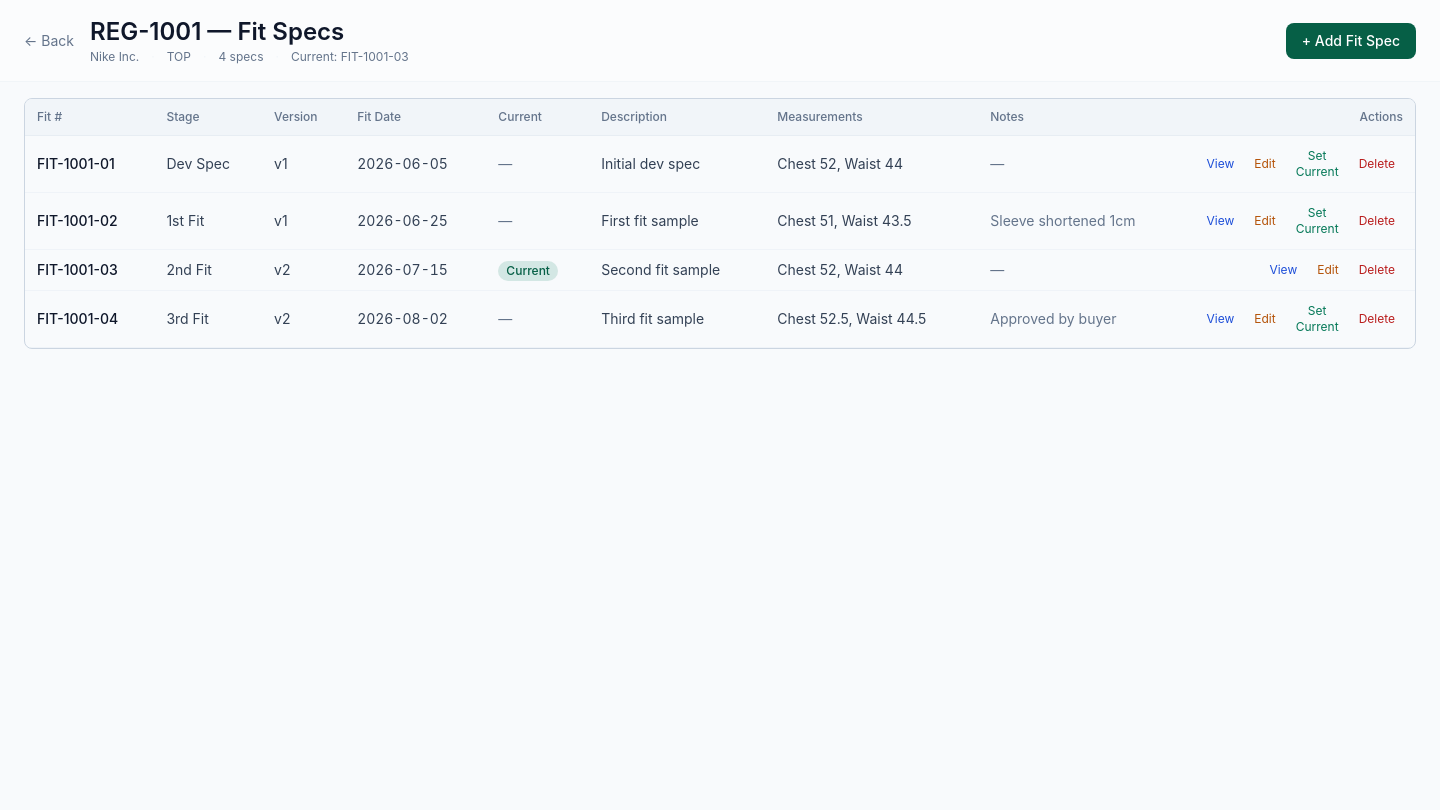
Test: DesignFitSpecsPage › edits an existing fit spec
The width and height of the screenshot is (1440, 810).
Check: the text "FIT-1001-01" is shown, box [25, 136, 154, 193]
Click the button "Edit" in the row of "FIT-1001-01".
click(1265, 164)  # box [1246, 152, 1284, 176]
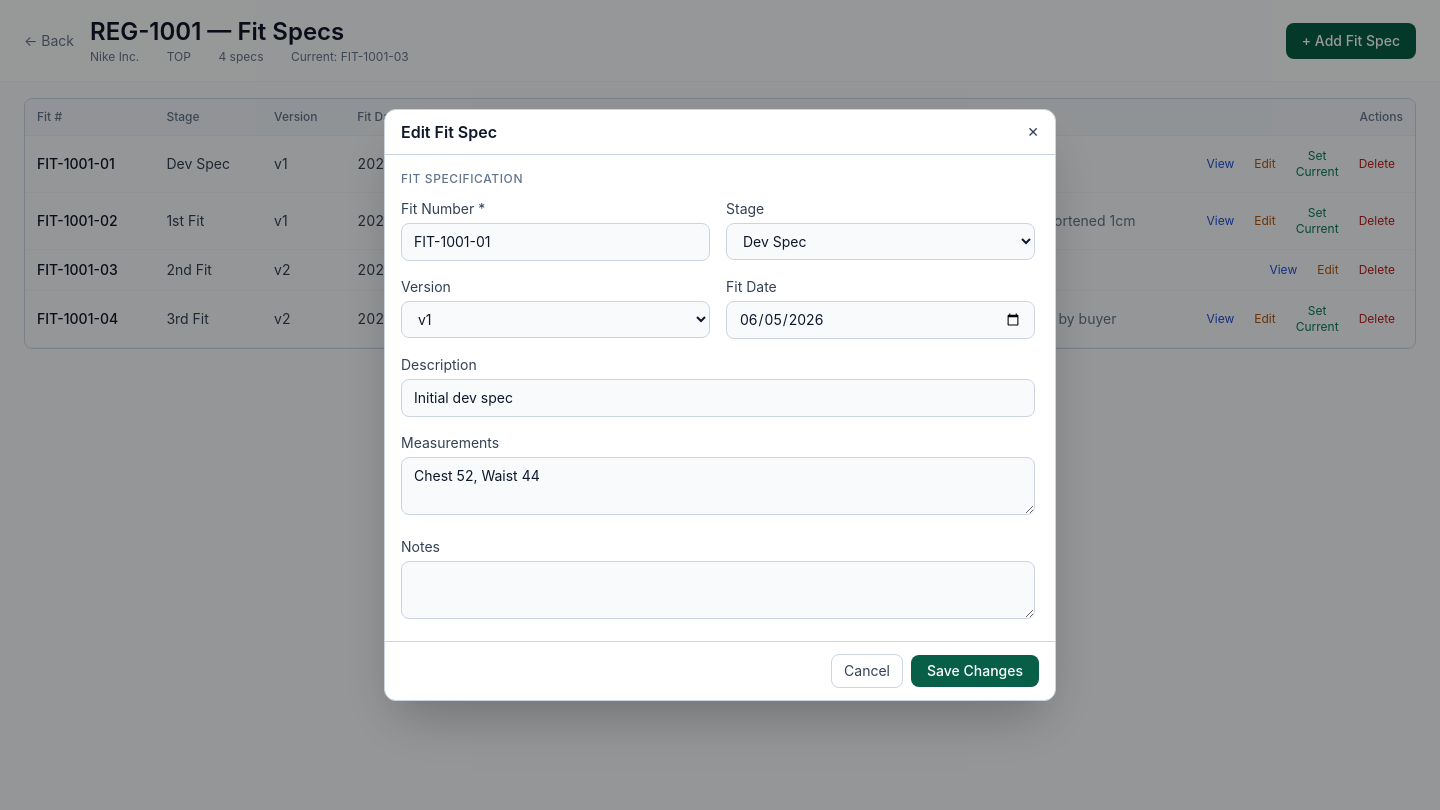
Check: the field showing "FIT-1001-01" is shown, box [401, 223, 710, 261]
Replace the text in the field labelled "Description" with "UPDATED DEV SPEC" at (718, 398), box [401, 379, 1035, 417]
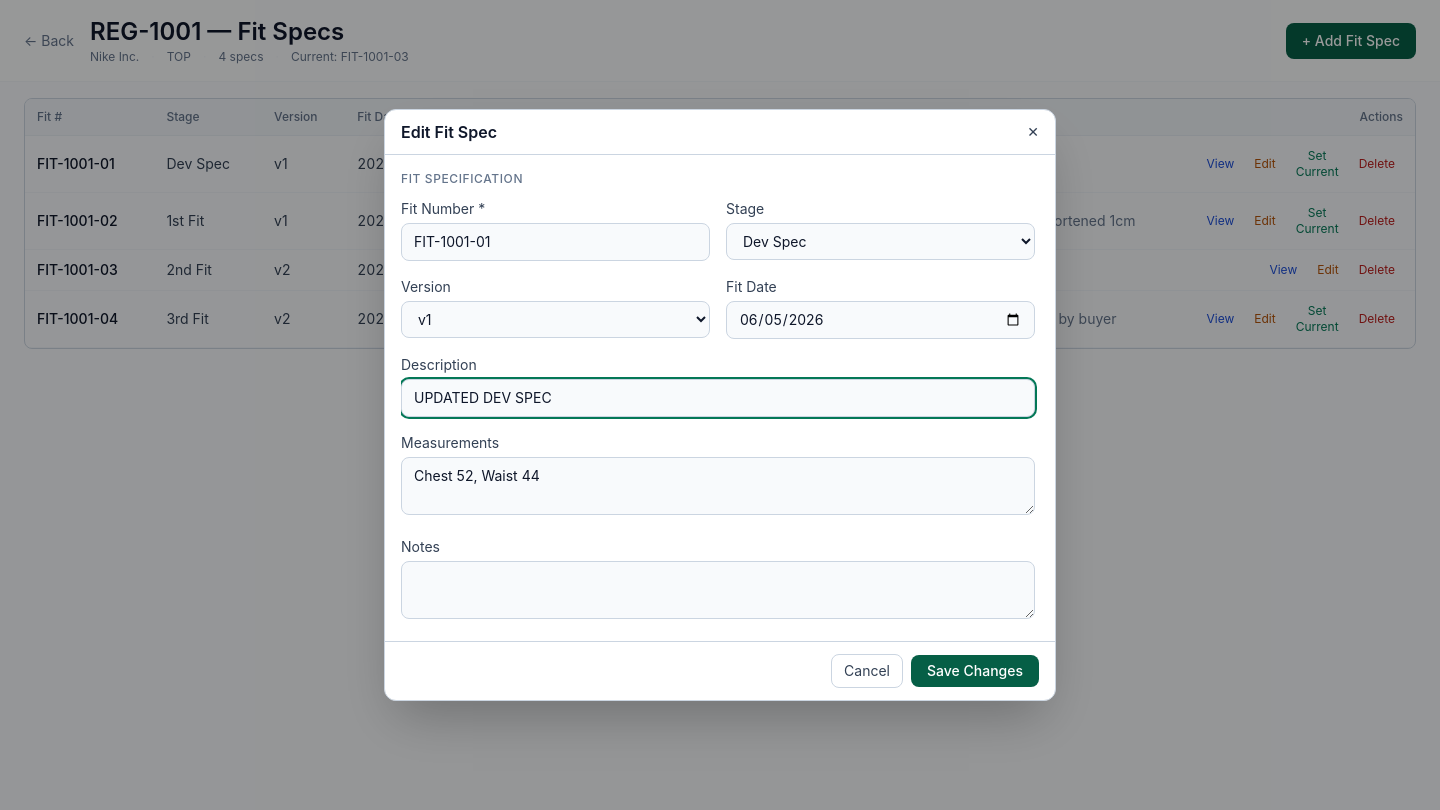
Click the button "Save Changes".
click(975, 671)  # box [911, 655, 1039, 687]
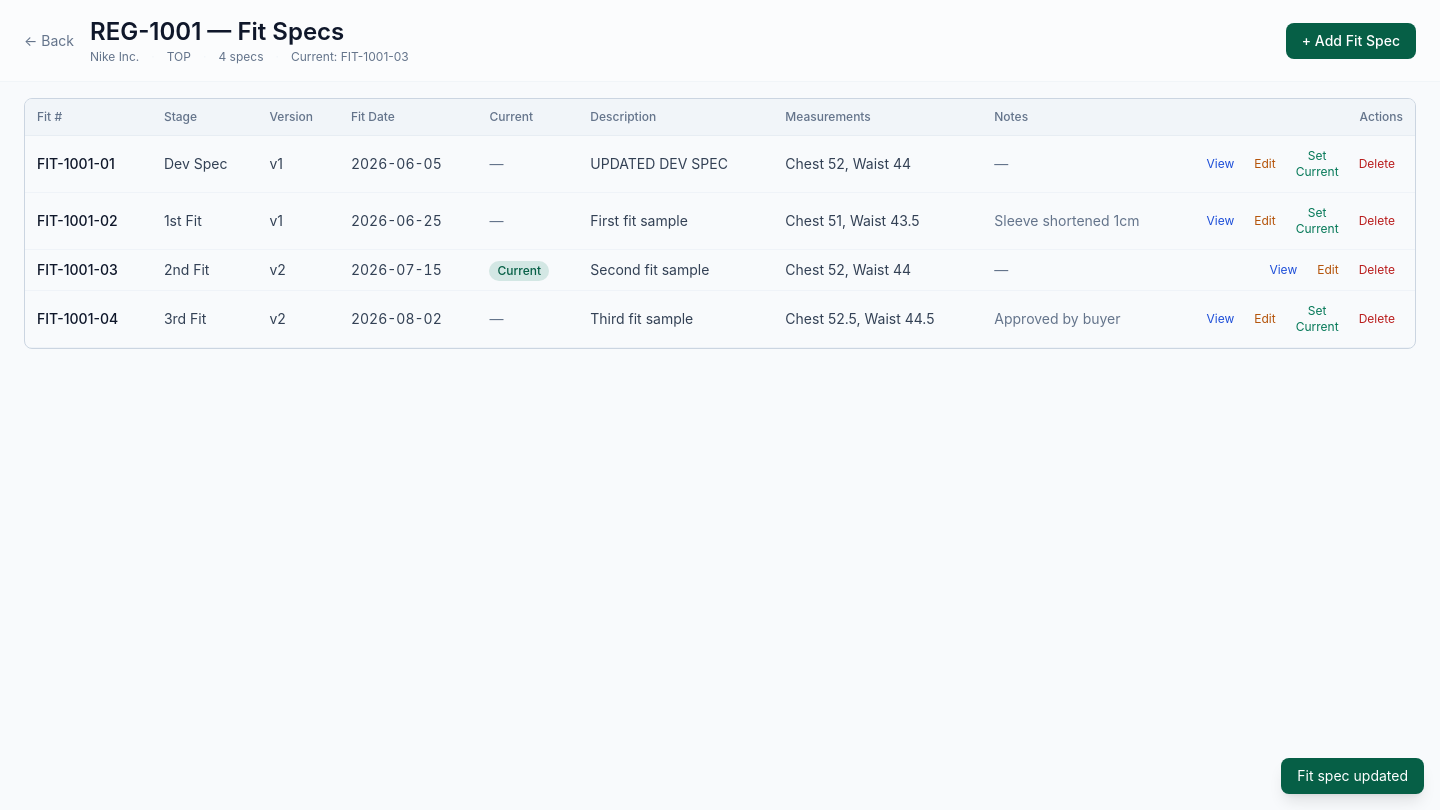
Check: the text "UPDATED DEV SPEC" is shown, box [578, 136, 773, 193]
Check: the text "Initial dev spec" is gone
